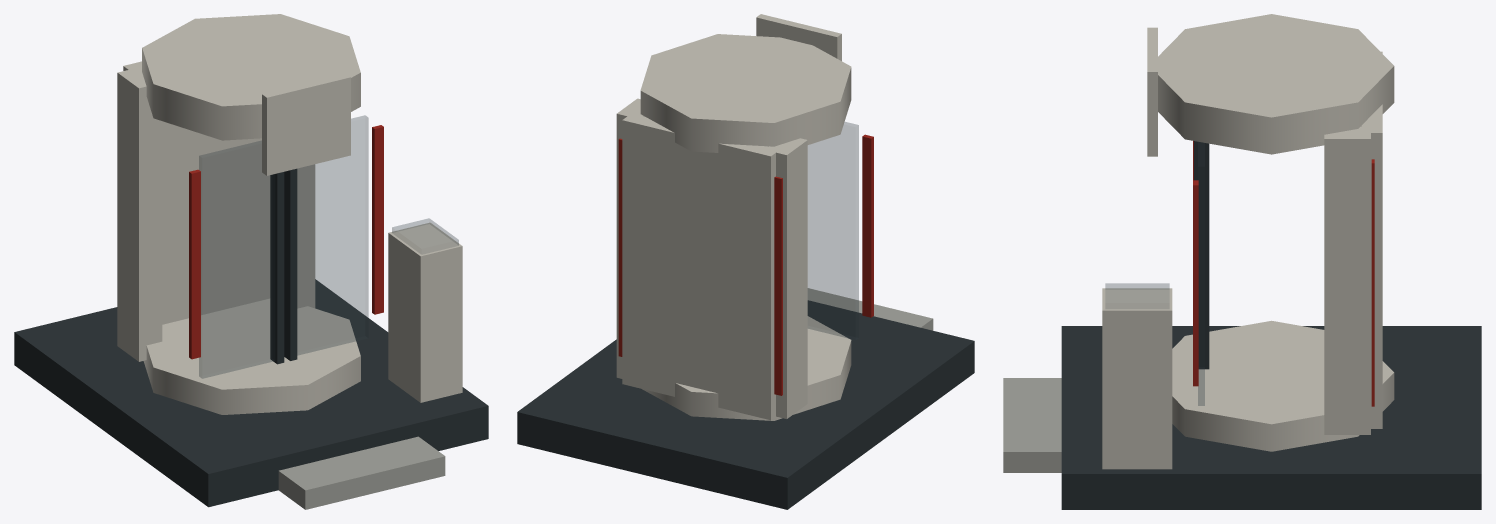
3 renders of one model, left to right at view 1: azimuth 30°, elevation 25°; view 2: azimuth 150°, elevation 25°; view 3: azimuth 270°, elevation 25°, orthographic. The views are drawn at different scales.
Parts seen in each view (by area): view 1: cloning-vat-painted, vat-door--1-glazing, vat-door-1-glazing, vat-door--1-painted, vat-door-1-painted, cloning-vat-glazing; view 2: cloning-vat-painted, vat-door--1-glazing; view 3: cloning-vat-painted, vat-door-1-painted, cloning-vat-glazing, vat-door-1-glazing.
Boxes of the visible parts, x1,y1,x2,y2 form: cloning-vat-painted: [14, 14, 488, 509]; vat-door--1-glazing: [199, 141, 274, 378]; vat-door-1-glazing: [297, 115, 368, 354]; vat-door--1-painted: [270, 172, 284, 364]; vat-door-1-painted: [284, 168, 297, 360]; cloning-vat-glazing: [392, 218, 458, 253]; cloning-vat-painted: [517, 14, 974, 509]; vat-door--1-glazing: [808, 122, 858, 339]; cloning-vat-painted: [1003, 14, 1481, 509]; vat-door-1-painted: [1194, 141, 1209, 369]; cloning-vat-glazing: [1105, 283, 1169, 308]; vat-door-1-glazing: [1198, 142, 1204, 405].
Size of the model in its own units: 15.79 by 19.21 by 21.58.
